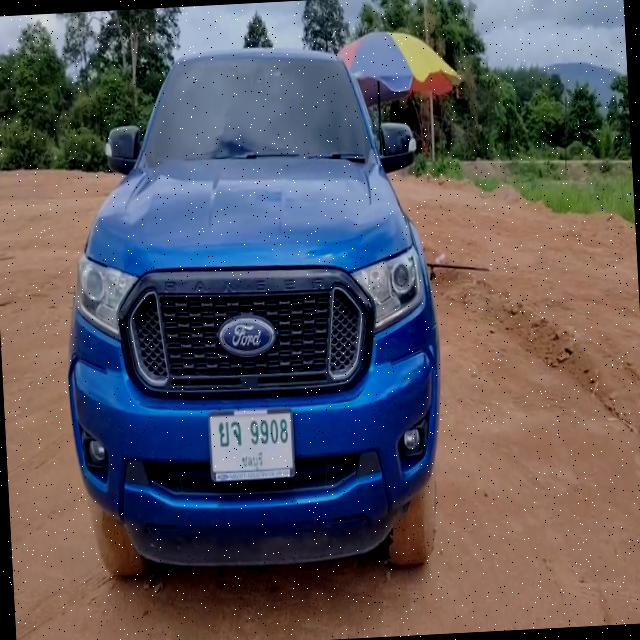Digit: (249, 418, 290, 448)
Licenseplate: (207, 408, 296, 484)
Provincename: (240, 449, 264, 472)
Thaichar: (218, 420, 243, 450)
